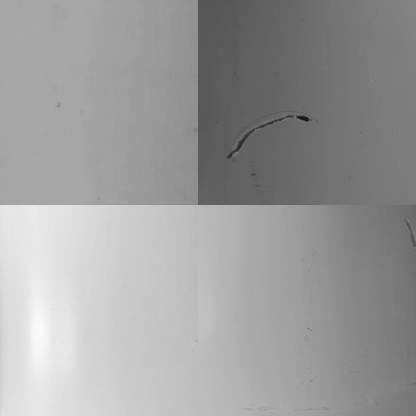fengxi: (221, 108, 316, 172)
